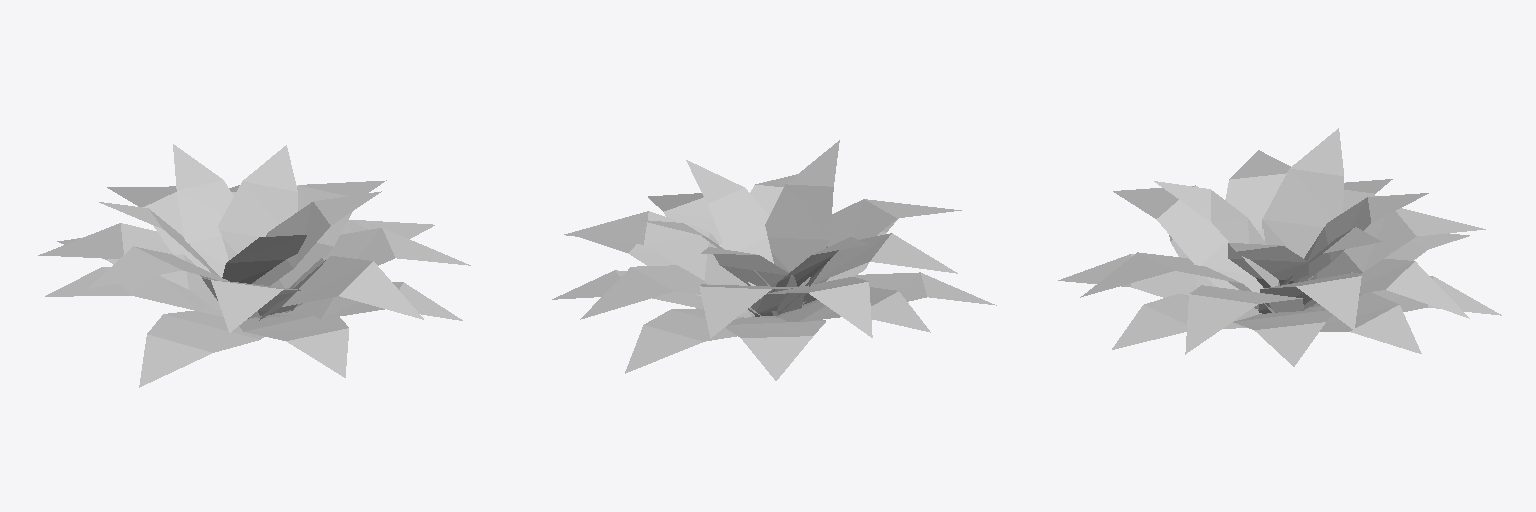
File: LittlePlant2.obj
3 views of the same model, side by side, from view 1: azimuth 30°, elevation 25°; view 2: azimuth 150°, elevation 25°; view 3: azimuth 270°, elevation 25° (orthographic).
Parts seen in each view (by area): view 1: plantinhas:Default plantinhas:group31 LilPlant2; view 2: plantinhas:Default plantinhas:group31 LilPlant2; view 3: plantinhas:Default plantinhas:group31 LilPlant2.
Part boxes in pixels (left/top/right/bottom): plantinhas:Default plantinhas:group31 LilPlant2: left=38, top=144, right=470, bottom=387; plantinhas:Default plantinhas:group31 LilPlant2: left=552, top=140, right=996, bottom=380; plantinhas:Default plantinhas:group31 LilPlant2: left=1058, top=128, right=1501, bottom=366.
Bounding box in the file's own units: 0.3506 × 0.1273 × 0.3603.